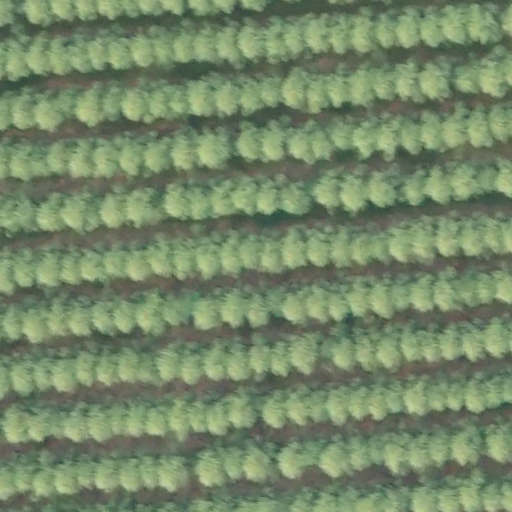eucalipto: (431, 263, 464, 316), (135, 288, 170, 337), (237, 17, 270, 68), (417, 55, 454, 100), (61, 187, 99, 230), (370, 162, 404, 210), (350, 222, 387, 264), (189, 290, 225, 332), (479, 46, 508, 98), (280, 223, 311, 271), (192, 449, 229, 489), (34, 87, 66, 133), (283, 120, 315, 166), (287, 333, 322, 375), (171, 126, 202, 173), (195, 20, 226, 67), (301, 11, 334, 55), (279, 176, 315, 216), (283, 65, 313, 113), (87, 398, 117, 445), (280, 437, 310, 484), (352, 114, 383, 159), (225, 389, 259, 430), (153, 342, 188, 381), (34, 189, 64, 234), (141, 132, 173, 174), (75, 85, 107, 127), (146, 26, 175, 72), (467, 102, 495, 149), (320, 436, 352, 477), (451, 424, 482, 466), (286, 384, 316, 427), (398, 112, 427, 156), (457, 213, 486, 257), (243, 441, 272, 485), (50, 354, 81, 395), (97, 187, 127, 229), (389, 221, 419, 263), (280, 283, 310, 325), (187, 77, 219, 116), (202, 334, 229, 380), (373, 61, 401, 105), (235, 120, 265, 161), (108, 25, 133, 74), (376, 326, 403, 371), (425, 165, 453, 208), (120, 82, 150, 122), (232, 174, 259, 218), (17, 300, 45, 342), (95, 343, 121, 388), (346, 275, 372, 320), (381, 433, 407, 478), (441, 320, 468, 363), (11, 245, 38, 288), (246, 287, 275, 327), (327, 117, 360, 152), (194, 235, 220, 279), (238, 229, 265, 271), (69, 133, 94, 178), (304, 229, 331, 270), (404, 373, 429, 417), (228, 336, 253, 379), (42, 297, 70, 335), (43, 139, 71, 177), (86, 29, 110, 73), (147, 401, 172, 442), (181, 339, 203, 385), (330, 335, 358, 371), (28, 404, 56, 440), (124, 245, 151, 282), (55, 459, 82, 496), (308, 283, 332, 323), (58, 248, 84, 284), (139, 451, 162, 491)
